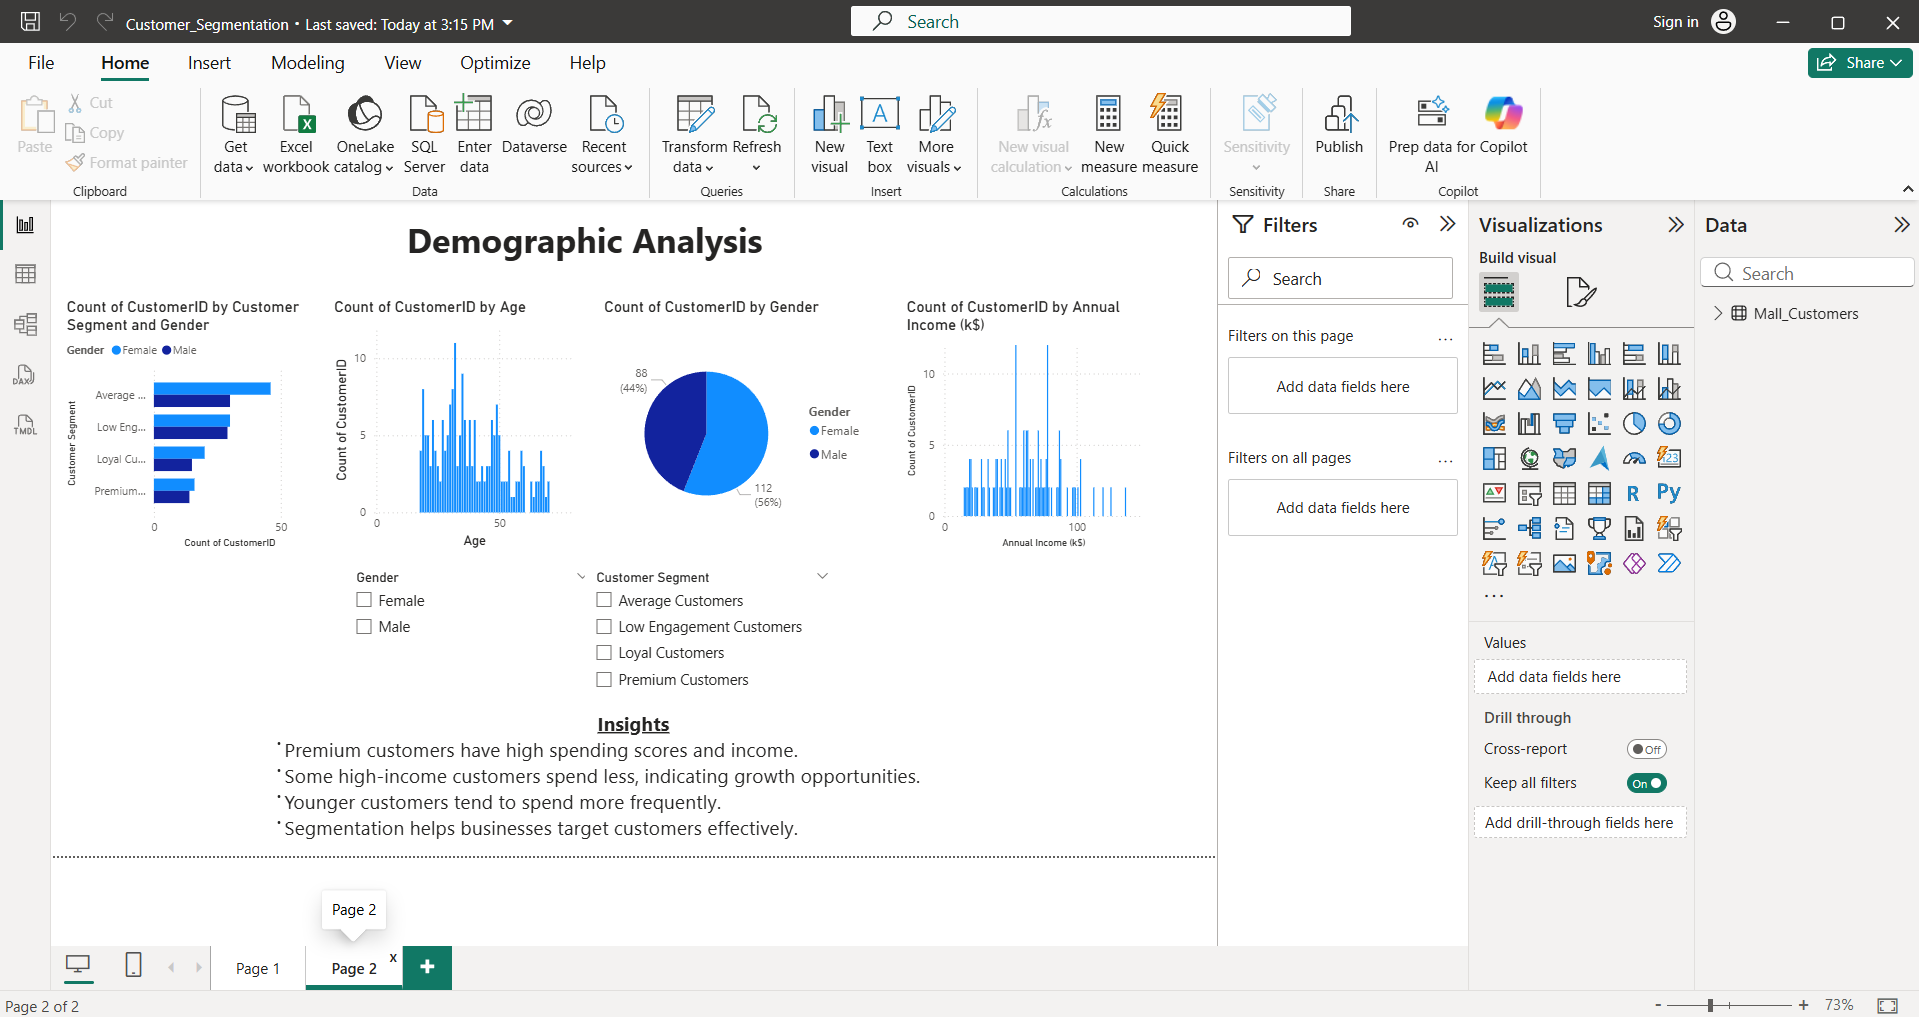

This screenshot's page, from the dashboard's own definition file:
{"tool":"powerbi","page":{"name":"Page 2","canvas":[1280,720],"ordinal":1},"visuals":[{"type":"clusteredBarChart","fields":{"Category":["Mall_Customers.Customer Segment"],"Y":["CountNonNull(Mall_Customers.CustomerID)"],"Series":["Mall_Customers.Gender"]},"box":[12.3,107,279.9,279.9],"z":0},{"type":"clusteredColumnChart","fields":{"Category":["Mall_Customers.Age"],"Y":["CountNonNull(Mall_Customers.CustomerID)"]},"box":[306,107,279.9,279.9],"z":1},{"type":"pieChart","fields":{"Category":["Mall_Customers.Gender"],"Y":["CountNonNull(Mall_Customers.CustomerID)"]},"box":[602.4,107,300.5,279.9],"z":2},{"type":"clusteredColumnChart","fields":{"Category":["Mall_Customers.Annual Income (k$)"],"Y":["CountNonNull(Mall_Customers.CustomerID)"]},"box":[934.5,107,279.9,279.9],"z":3},{"type":"slicer","fields":{"Values":["Mall_Customers.Gender"]},"box":[322.5,400.7,279.9,93.3],"z":4},{"type":"slicer","fields":{"Values":["Mall_Customers.Customer Segment"]},"box":[585.9,400.7,279.9,153.7],"z":5},{"type":"textbox","box":[197.6,13.7,776.7,67.2],"z":6},{"type":"textbox","box":[233.3,554.4,812.4,166],"z":7}]}

Visuals, with their boxes on the page's 1280x720 design canvas (x1, y1, x2, y2). These are canvas units, not pixel positions in the 1919x1017 screenshot, which may show the page scaled, cropped or inside an application window:
clusteredBarChart - Mall_Customers.Customer Segment x CountNonNull(Mall_Customers.CustomerID): (x1=12, y1=107, x2=292, y2=387)
clusteredColumnChart - Mall_Customers.Age x CountNonNull(Mall_Customers.CustomerID): (x1=306, y1=107, x2=586, y2=387)
pieChart - Mall_Customers.Gender x CountNonNull(Mall_Customers.CustomerID): (x1=602, y1=107, x2=903, y2=387)
clusteredColumnChart - Mall_Customers.Annual Income (k$) x CountNonNull(Mall_Customers.CustomerID): (x1=934, y1=107, x2=1214, y2=387)
slicer - Mall_Customers.Gender: (x1=322, y1=401, x2=602, y2=494)
slicer - Mall_Customers.Customer Segment: (x1=586, y1=401, x2=866, y2=554)
textbox: (x1=198, y1=14, x2=974, y2=81)
textbox: (x1=233, y1=554, x2=1046, y2=720)
